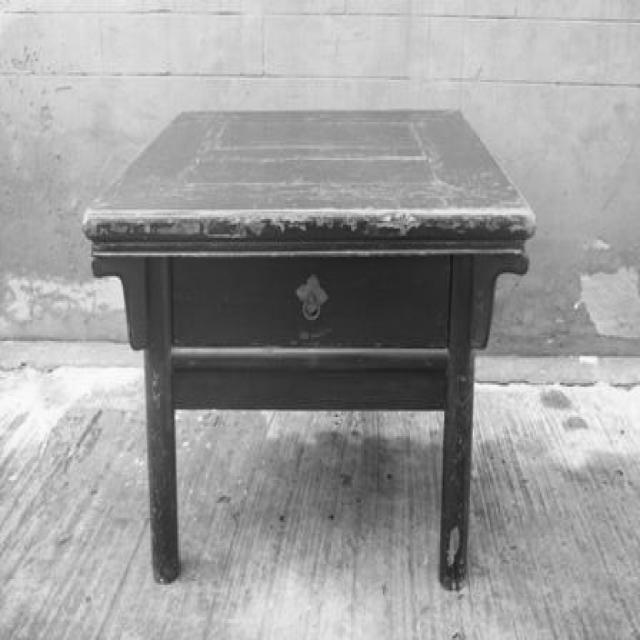table: (84, 108, 538, 582)
